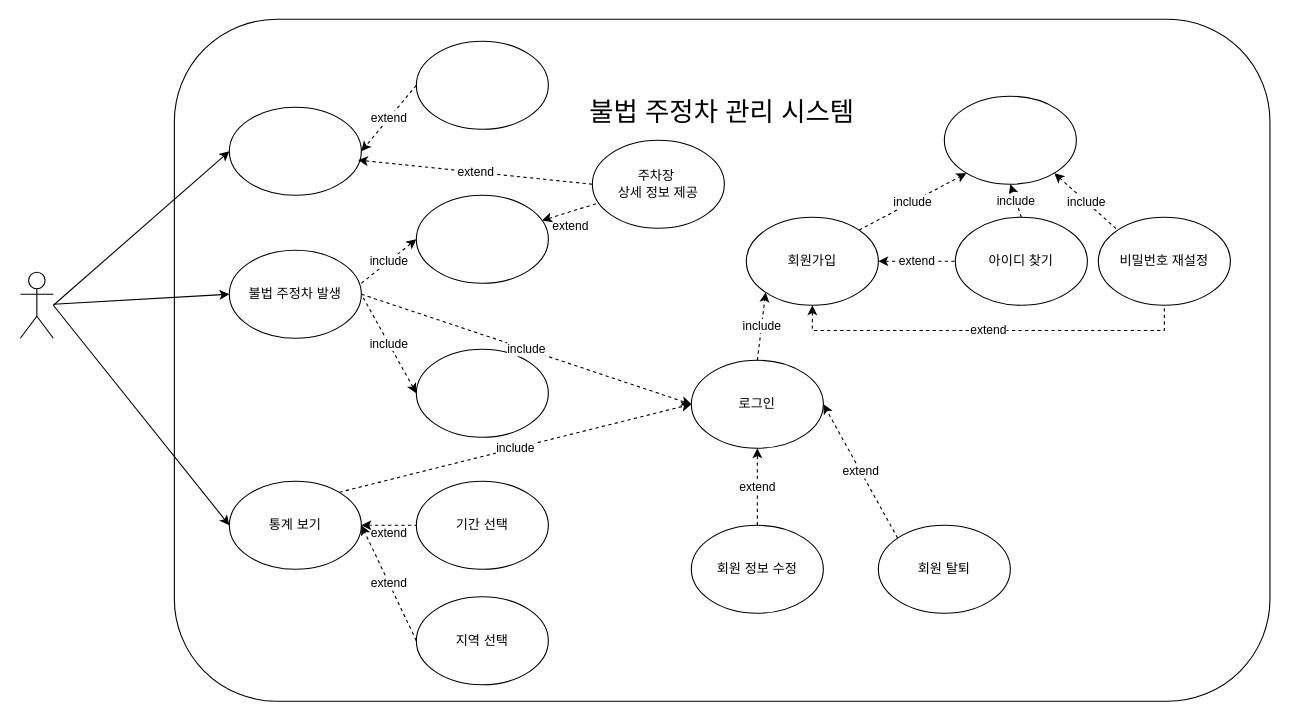
Image size: 1289x721. Some labels were removed from this diagram. Here are the shapes that lost their labels. From the top down, the box of each, then its label:
(415, 40, 548, 129): 주차장 목록 정렬
(228, 106, 361, 195): 주차장 목록 제공
(943, 95, 1076, 184): 계정인증
(415, 194, 548, 283): 주변 주차장 목록, 위치 제공
(19, 271, 53, 338): 이용자
(415, 348, 548, 437): 불법 주정차 범칙금 정보 제공
